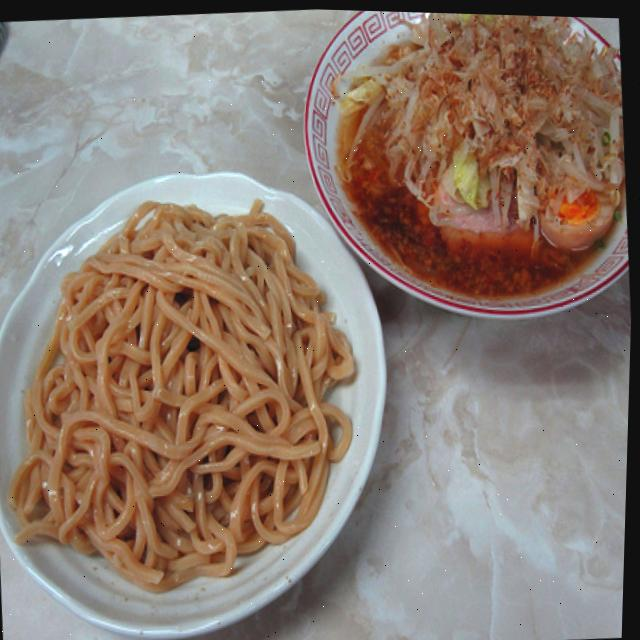面条主食: (0, 0, 640, 580)
